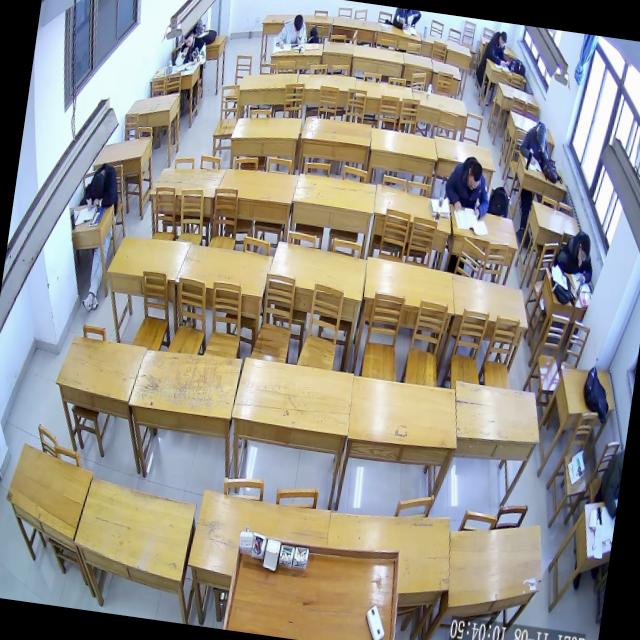bow: (556, 228, 599, 284), (85, 161, 124, 214)
down: (466, 160, 484, 191), (577, 233, 592, 263), (534, 123, 548, 146), (292, 13, 304, 33), (182, 30, 195, 48), (498, 30, 508, 50)
sit: (441, 153, 494, 220), (518, 118, 552, 166), (174, 28, 210, 69), (275, 13, 309, 52), (484, 29, 514, 68)
